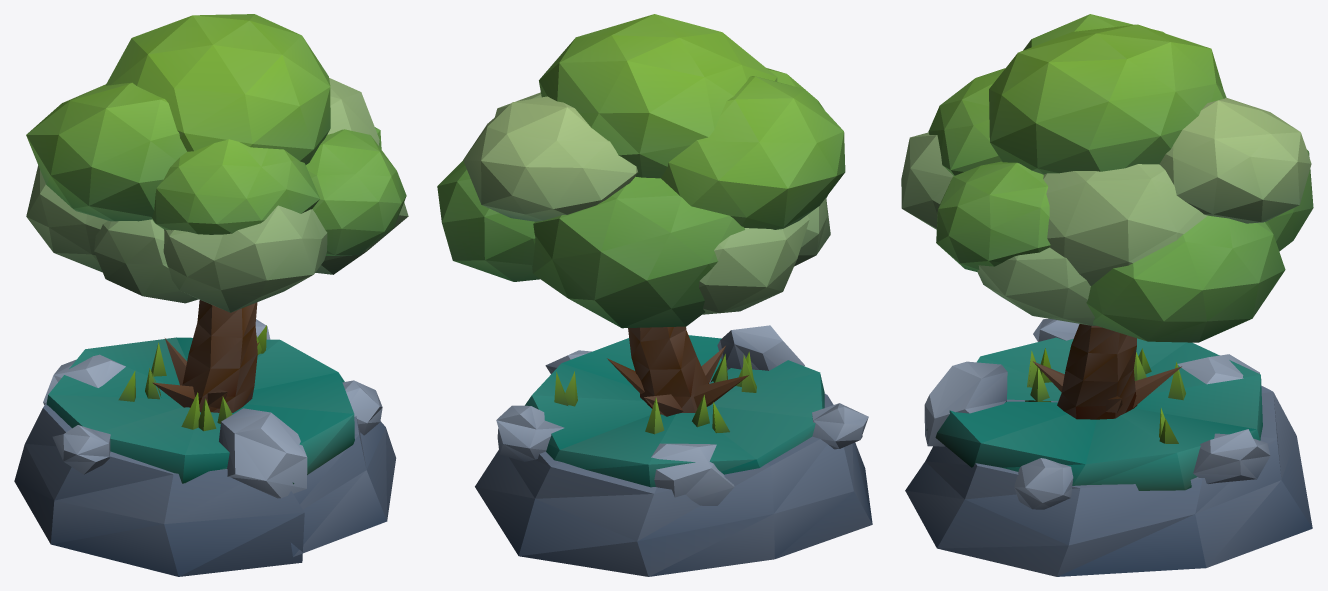
The model's file is pohon_oak_highland_83284.glb.
3 renders of one model, left to right at view 1: azimuth 30°, elevation 25°; view 2: azimuth 150°, elevation 25°; view 3: azimuth 270°, elevation 25°, orthographic. The views are drawn at different scales.
Visible parts, largest first — view 1: Dedaunan_Kanopi, Pulau_Batu_Tepi_Sungai, Batang_Dan_Akar; view 2: Dedaunan_Kanopi, Pulau_Batu_Tepi_Sungai, Batang_Dan_Akar; view 3: Dedaunan_Kanopi, Pulau_Batu_Tepi_Sungai, Batang_Dan_Akar.
Part boxes in pixels (x1,y1,x2,y2): Dedaunan_Kanopi: (26,14,408,312); Pulau_Batu_Tepi_Sungai: (14,319,396,576); Batang_Dan_Akar: (152,300,259,412); Dedaunan_Kanopi: (437,14,845,328); Pulau_Batu_Tepi_Sungai: (475,325,872,576); Batang_Dan_Akar: (607,326,748,416); Dedaunan_Kanopi: (901,14,1313,342); Pulau_Batu_Tepi_Sungai: (905,318,1312,576); Batang_Dan_Akar: (1032,324,1181,419).
Bounding box in the file's own units: 5.73 × 6.72 × 5.3.
